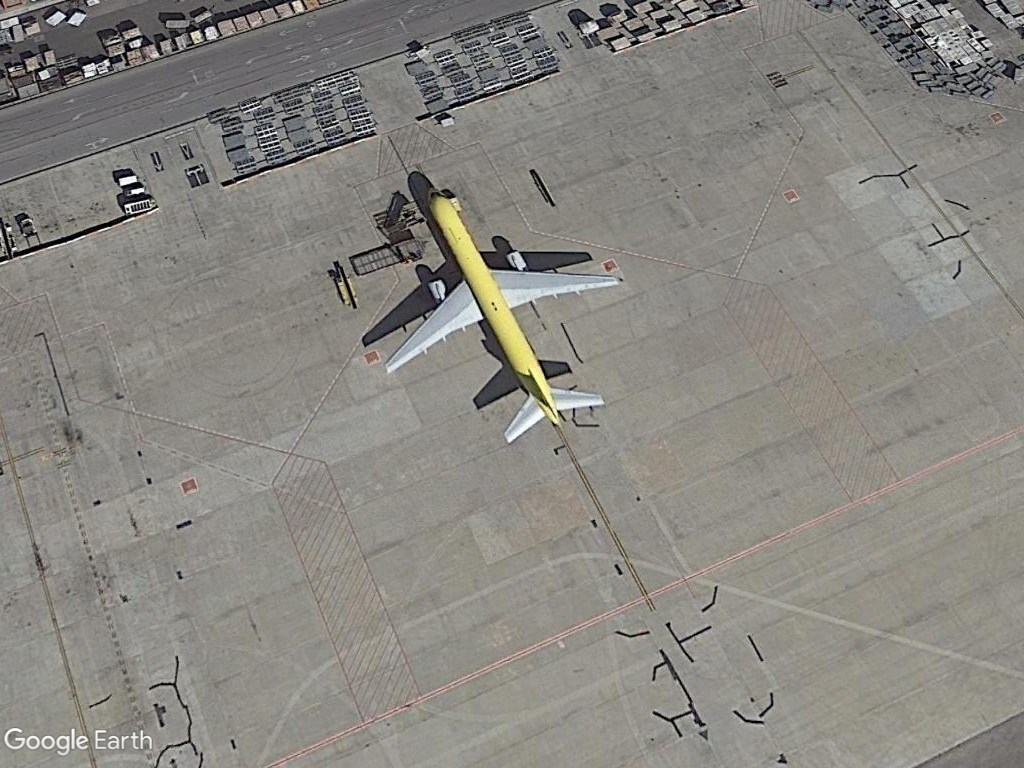airliner: (369, 188, 627, 448)
